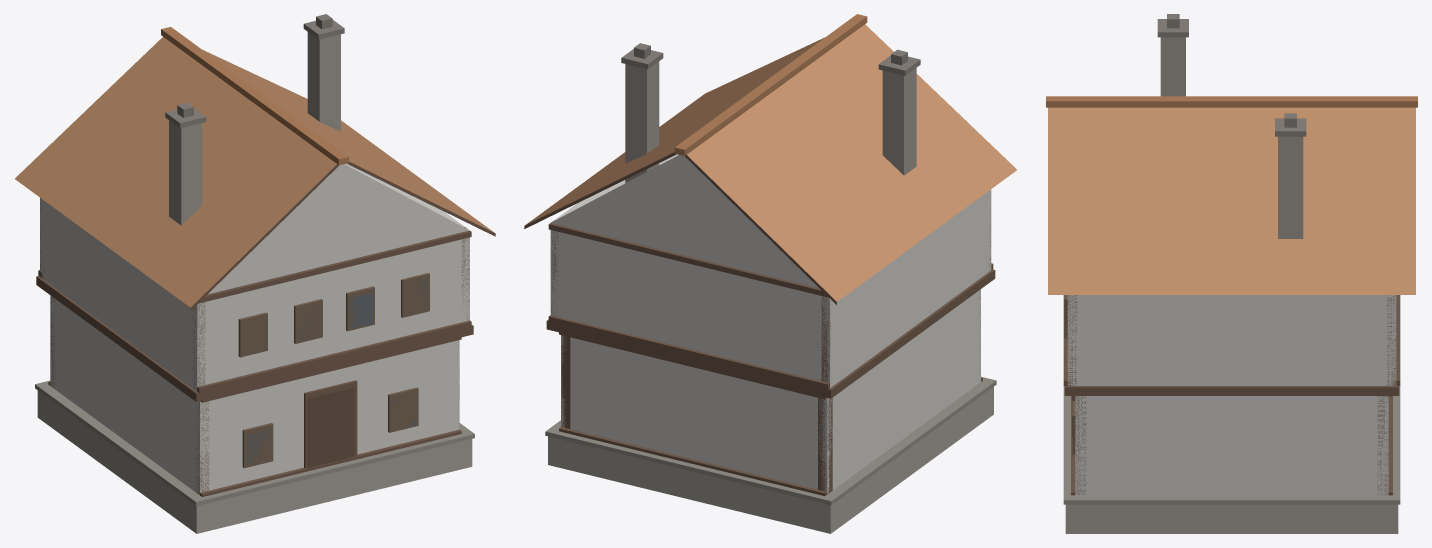
The model's file is house_l.glb.
3 renders of one model, left to right at view 1: azimuth 30°, elevation 25°; view 2: azimuth 150°, elevation 25°; view 3: azimuth 270°, elevation 25°, orthographic. The views are drawn at different scales.
Size of the model in its own units: 9.4 by 11.2 by 9.5.
